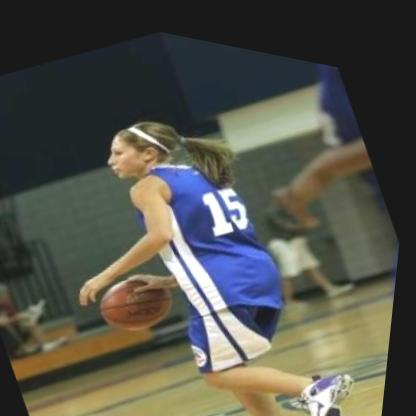basketball: (84, 239, 197, 353)
